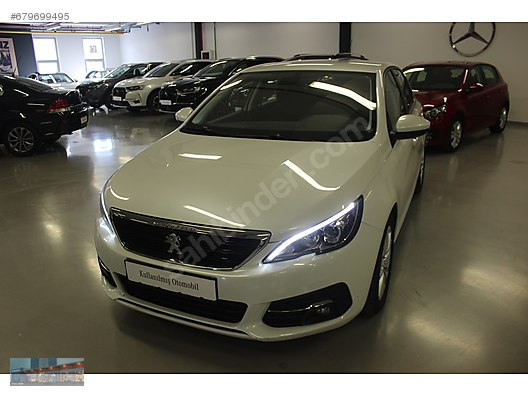peugeot: (90, 57, 423, 339)
